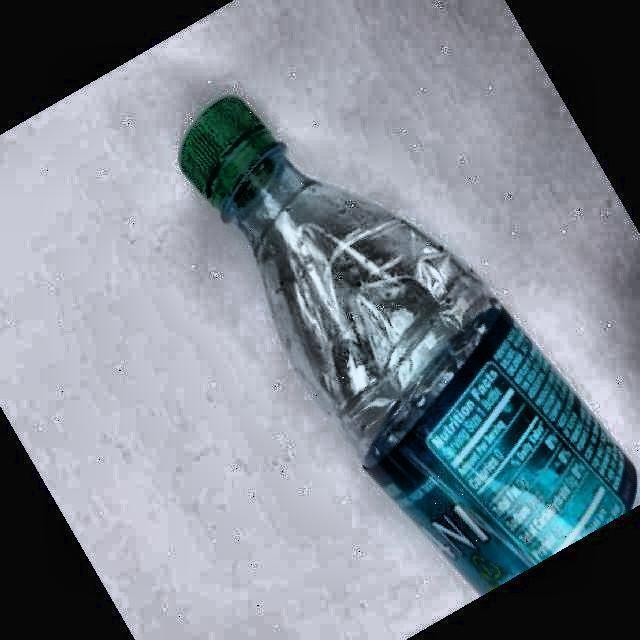plastic: (182, 96, 636, 591)
